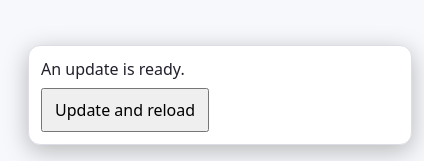
Test case: makes the update actionable again when a waiting worker does not take control
Later steps or results of the test are not shown.
Step 1. Click the button "Update and reload" → (125, 110), box [41, 88, 209, 132]
Wait 15000 ms
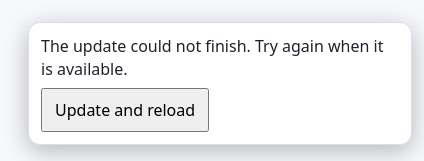
Expected: the element named "Application update" shows "The update could not finish.", [41, 35, 383, 80]
